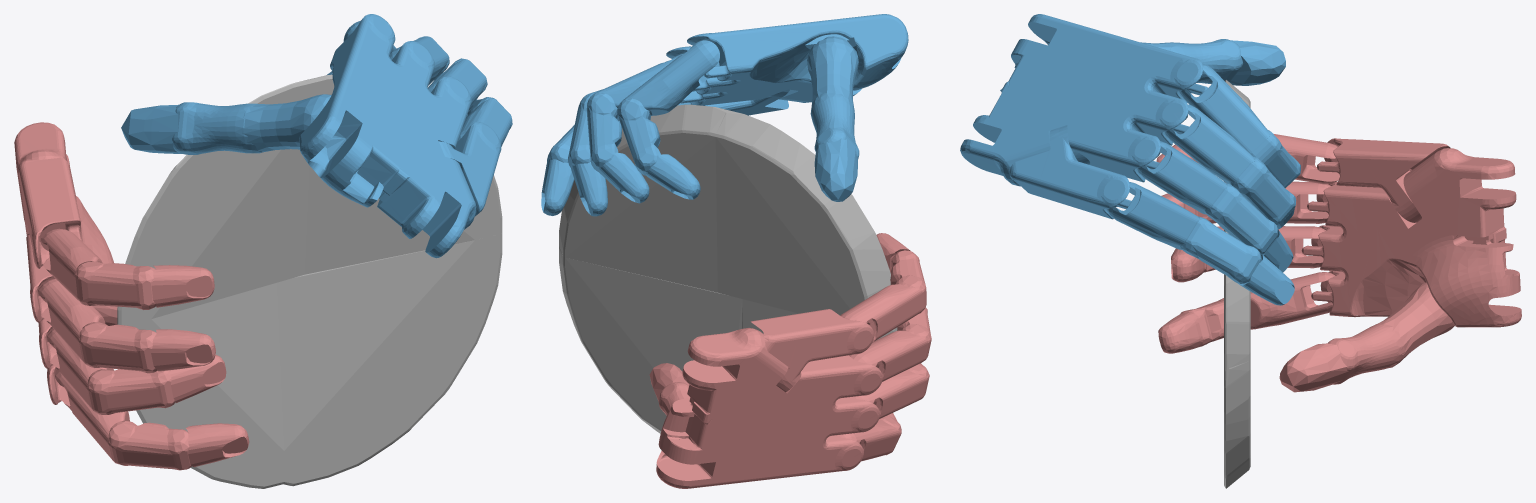
The model's file is Plate_mesh.glb.
3 views of the same model, side by side, from view 1: azimuth 30°, elevation 25°; view 2: azimuth 150°, elevation 25°; view 3: azimuth 270°, elevation 25° (orthographic). The views are drawn at different scales.
Parts seen in each view (by area): view 1: geom_0, geom_1, geom_2; view 2: geom_0, geom_2, geom_1; view 3: geom_1, geom_2, geom_0.
Part boxes in pixels (left/top/right/bottom): geom_0: left=117, top=74, right=502, bottom=488; geom_1: left=121, top=14, right=512, bottom=258; geom_2: left=14, top=122, right=249, bottom=470; geom_0: left=559, top=104, right=897, bottom=433; geom_2: left=649, top=233, right=931, bottom=488; geom_1: left=541, top=14, right=908, bottom=216; geom_1: left=960, top=14, right=1300, bottom=305; geom_2: left=1156, top=134, right=1521, bottom=392; geom_0: left=1224, top=80, right=1250, bottom=488.
Size of the model in its own units: 0.2155 by 0.2259 by 0.2691.
